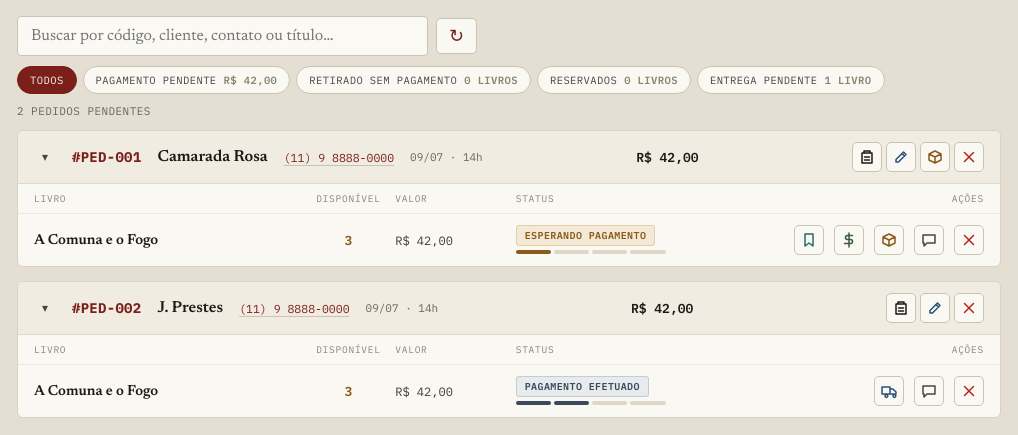
Test: Backoffice — Pedidos (linhas por unidade) › busca filtra por nome do cliente e chips filtram por status
The image size is (1018, 435).
Expected: the text "Camarada Rosa" is shown, [158,149,268,165]
busca por nome
Type "prestes" into the field with placeholder "Buscar por código, cliente, contato ou título…" at coordinates (222, 36), box [17,16,428,56]
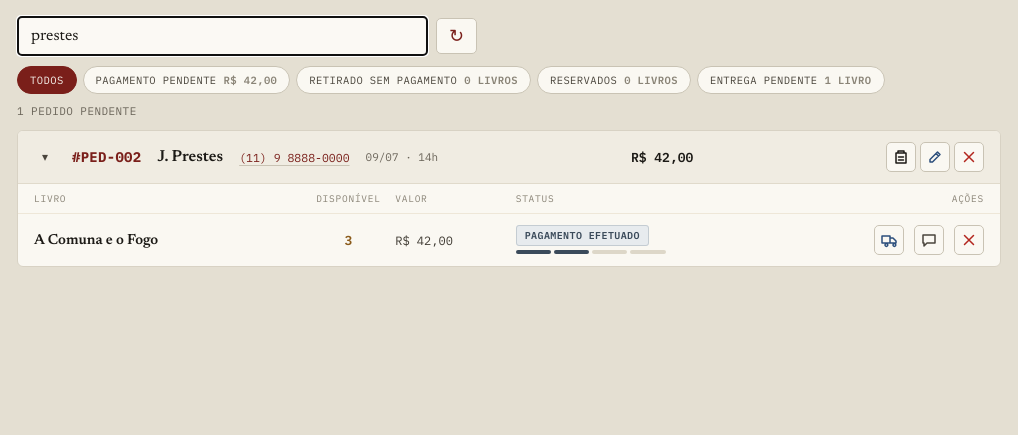
Expected: the text "J. Prestes" is shown, [158,149,223,165]
Expected: the text "Camarada Rosa" is gone
Clear the field with placeholder "Buscar por código, cliente, contato ou título…" at coordinates (222, 36), box [17,16,428,56]
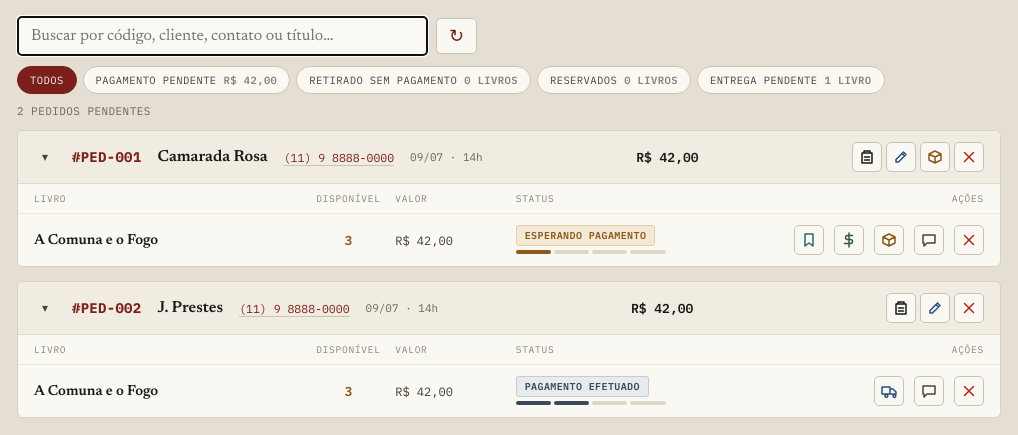
Expected: the text "Camarada Rosa" is shown, [158,149,268,165]
Click the button "Entrega pendente1 livro" at coordinates (791, 80), box [697,66,884,94]
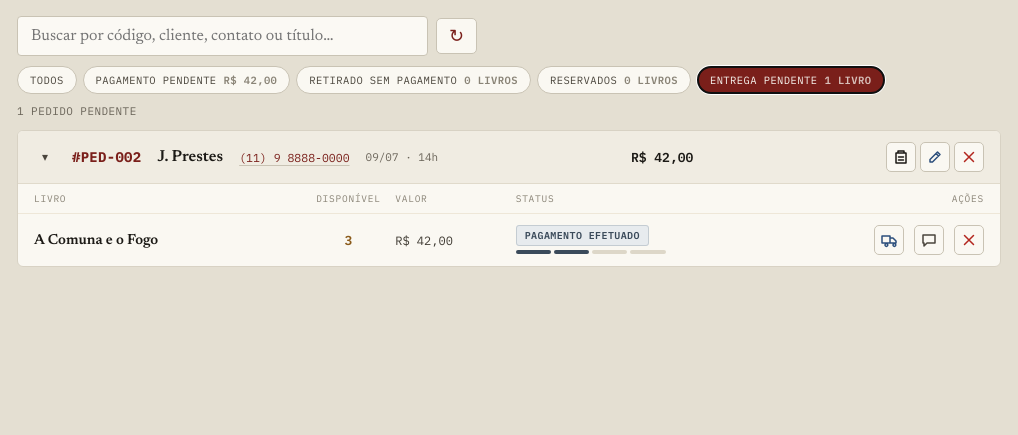
Expected: the text "J. Prestes" is shown, [158,149,223,165]
Expected: the text "Camarada Rosa" is gone
